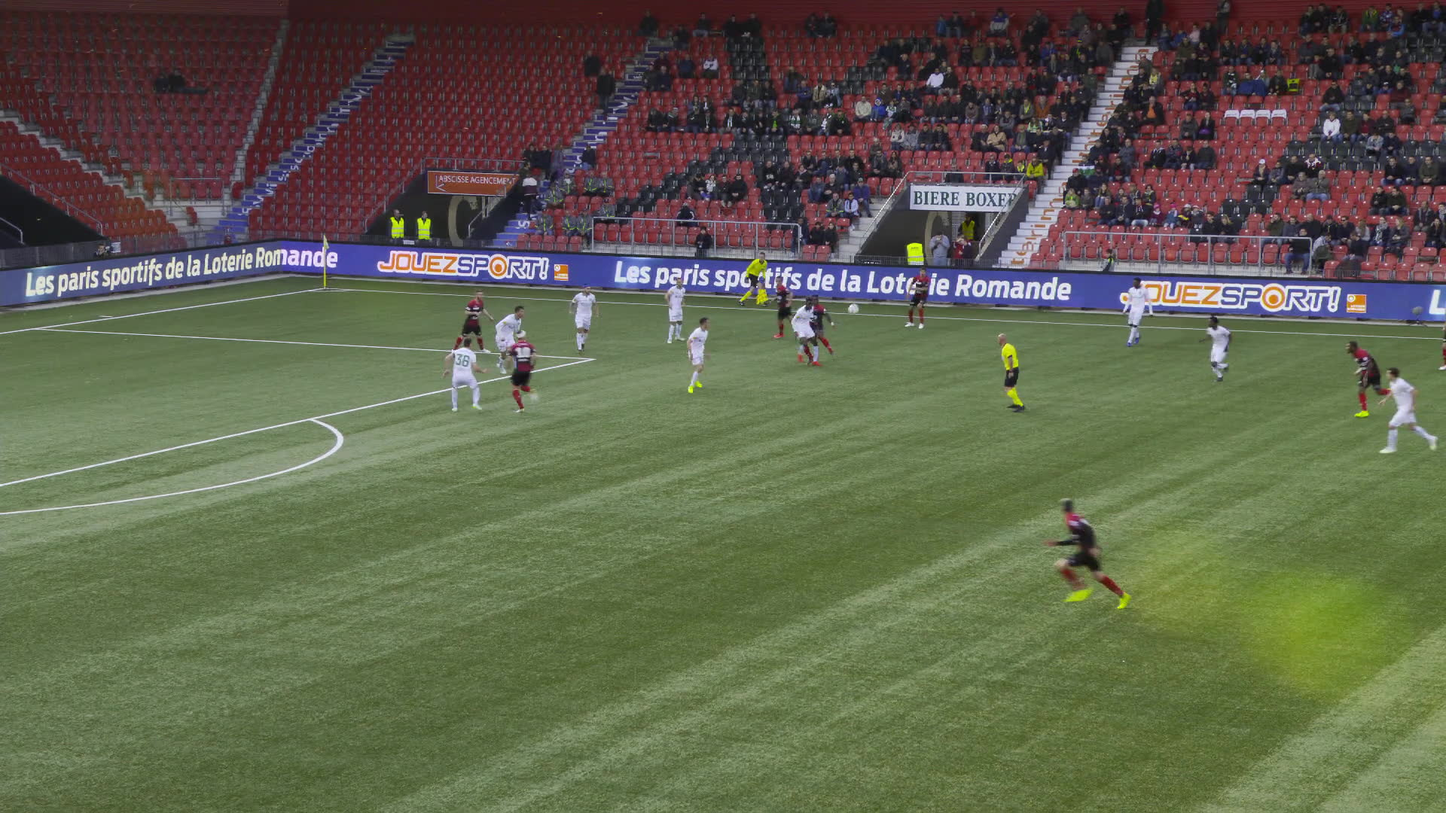ball: (847, 306, 856, 315)
player: (1051, 498, 1127, 611), (1386, 369, 1438, 453), (441, 339, 489, 414), (1346, 340, 1389, 416), (511, 331, 545, 412), (455, 288, 492, 352), (1203, 314, 1237, 382), (801, 296, 834, 364), (494, 308, 526, 376), (569, 283, 597, 353), (688, 317, 714, 391), (1123, 278, 1151, 346), (791, 298, 819, 365), (905, 266, 932, 329), (664, 277, 688, 343), (774, 277, 795, 339)
referee: (994, 330, 1022, 411), (740, 251, 766, 307)
